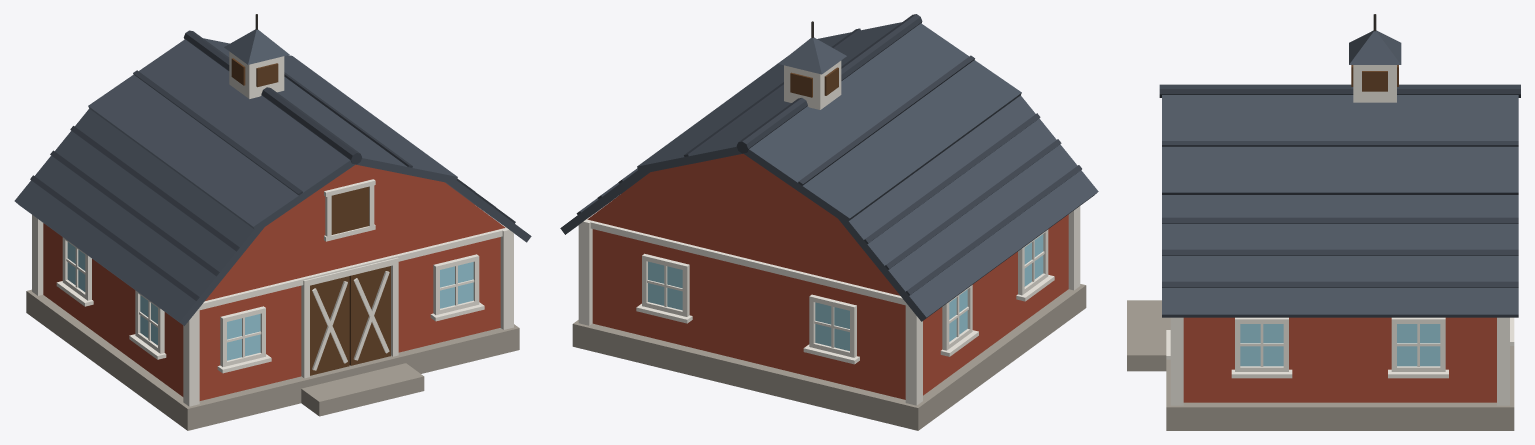
File: rival_house.glb
3 views of the same model, side by side, from view 1: azimuth 30°, elevation 25°; view 2: azimuth 150°, elevation 25°; view 3: azimuth 270°, elevation 25° (orthographic). The views are drawn at different scales.
Parts seen in each view (by area): view 1: Rival_House; view 2: Rival_House; view 3: Rival_House.
Boxes of the visible parts, <box> form: Rival_House: <box>14,14,531,430</box>; Rival_House: <box>560,14,1098,430</box>; Rival_House: <box>1127,14,1520,430</box>.
Bounding box in the file's own units: 10.08 × 8.35 × 9.05.
